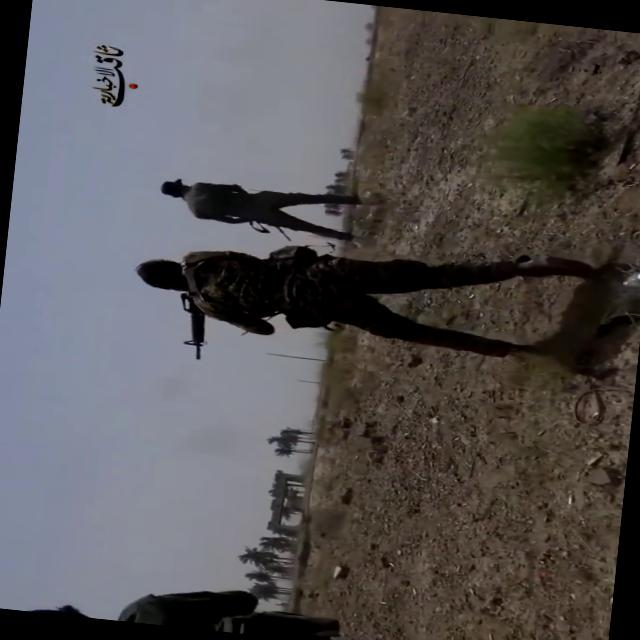long weapon: (166, 291, 224, 370)
